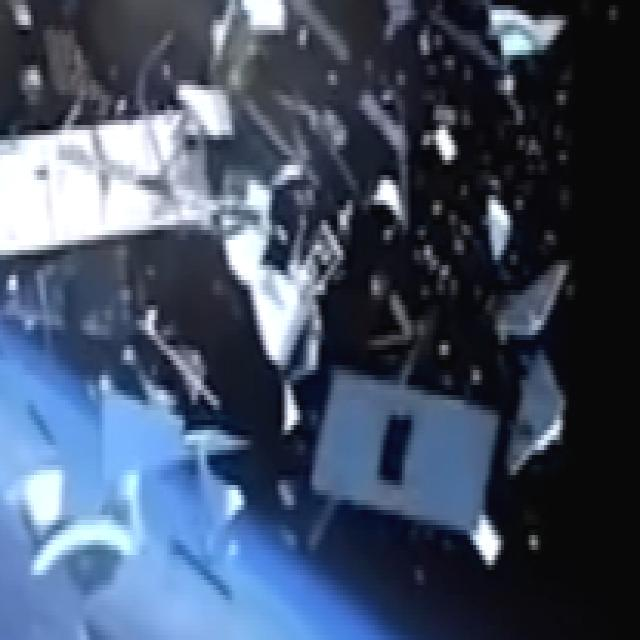large_debris: (0, 79, 249, 267), (3, 393, 199, 625), (313, 375, 506, 563), (211, 160, 369, 385)
medium_debris: (150, 409, 266, 549), (106, 289, 228, 410), (488, 359, 596, 474), (266, 90, 370, 175), (488, 255, 580, 350), (201, 0, 296, 72), (348, 82, 422, 162), (164, 532, 246, 602), (482, 0, 562, 65), (286, 0, 363, 67), (473, 193, 519, 264)
small_debris: (374, 182, 418, 230), (380, 0, 416, 45), (397, 557, 439, 595), (426, 127, 463, 163), (392, 315, 423, 355), (18, 62, 49, 101), (426, 103, 472, 129), (273, 476, 303, 512), (450, 225, 473, 263), (493, 73, 524, 99), (155, 60, 183, 87), (433, 260, 460, 286), (555, 145, 580, 173), (415, 242, 441, 268), (366, 271, 389, 300), (440, 42, 460, 75), (436, 334, 455, 366), (539, 229, 565, 251), (552, 83, 576, 106), (526, 528, 548, 553), (513, 102, 529, 126), (429, 196, 442, 222)
